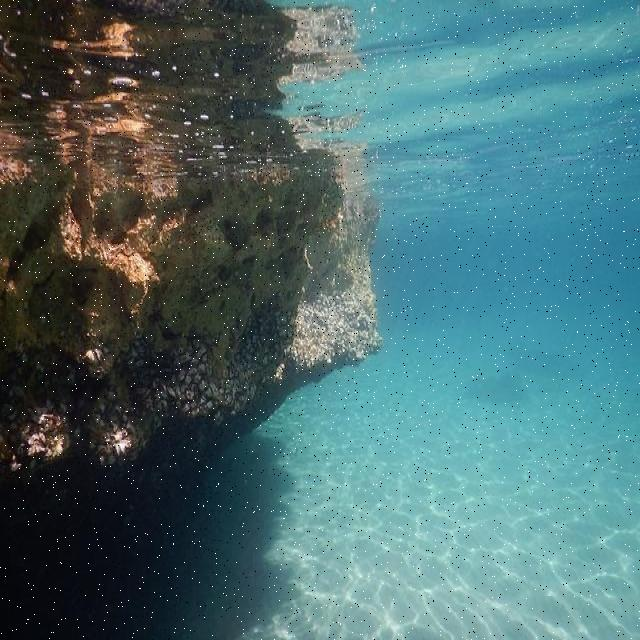sea-floor: (1, 0, 386, 486)
